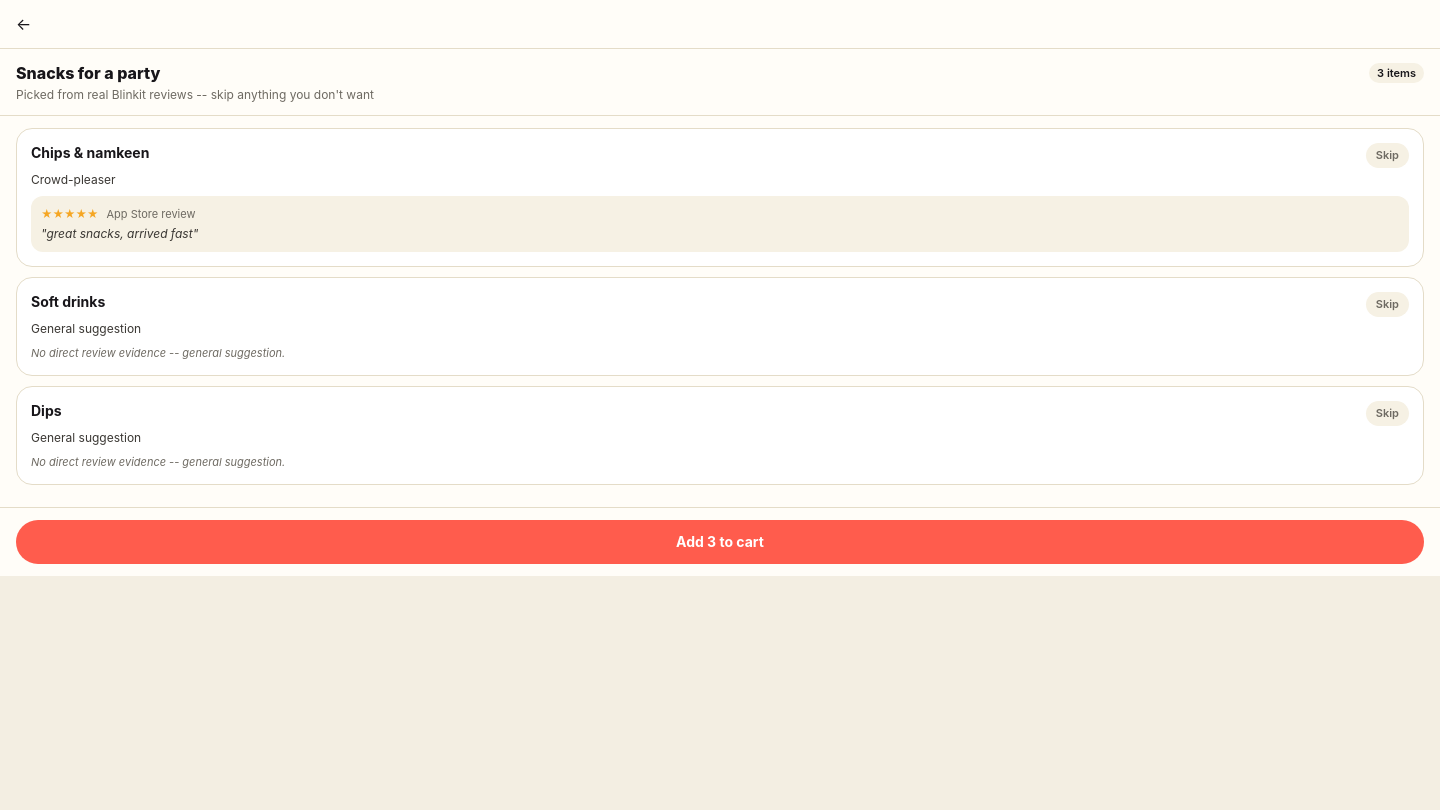
Test: Result screen skip/undo -- regression coverage for the flow verified manually during QA review › decrements the cart count when an item is skipped, and updates the pill
The image size is (1440, 810).
What coordinates should you click on to do the following:
click the button "Skip" in the row of "Chips & namkeen"
I would click on:
 (1387, 155)
Its box is [1366,143,1409,168].
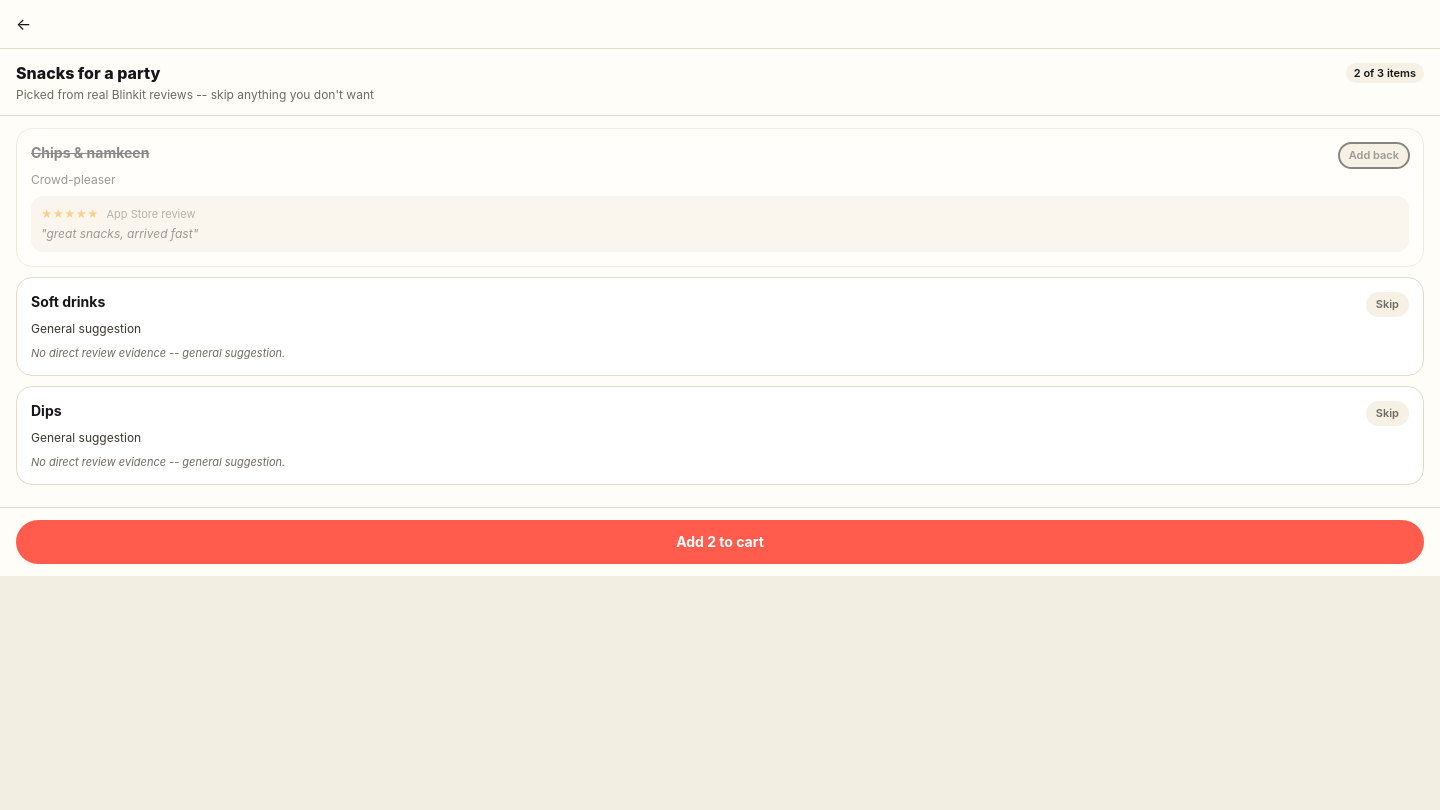
Now the button "Add 2 to cart" is shown, box [16,520,1424,564]
Now the text "2 of 3 items" is shown, box [1346,63,1424,83]
